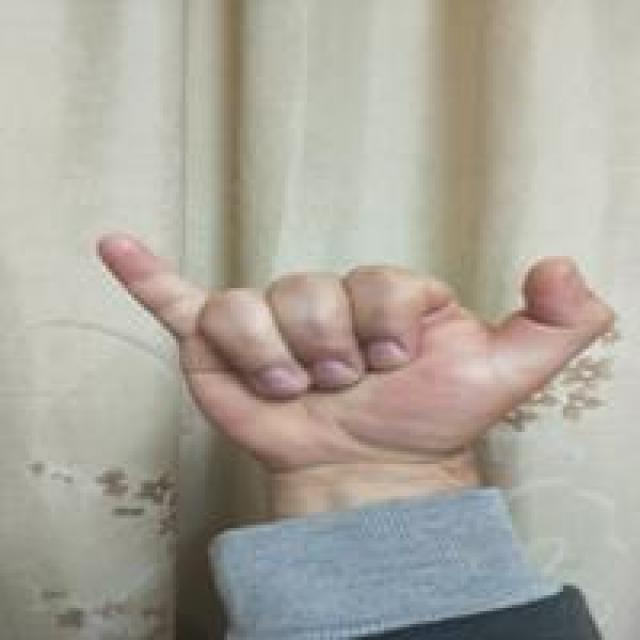Y: (96, 226, 627, 494)
